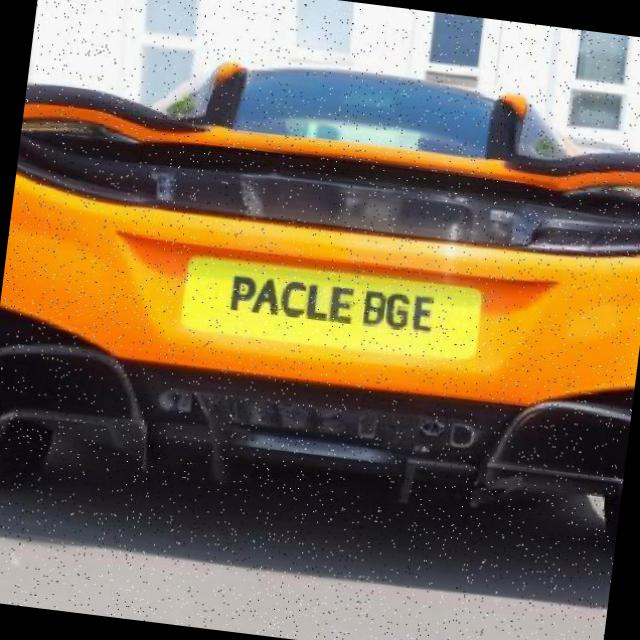LicensePlate: (179, 255, 481, 358)
